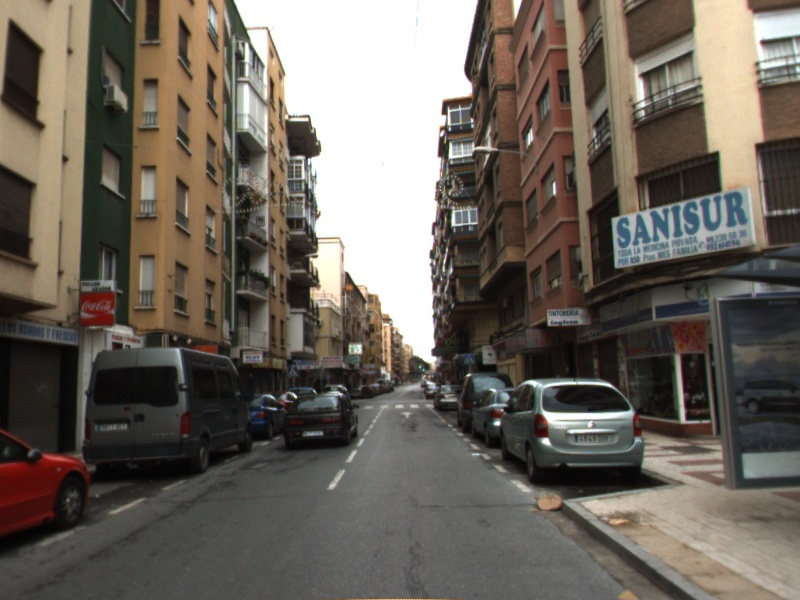STRAIGHT: (397, 409, 417, 420)
